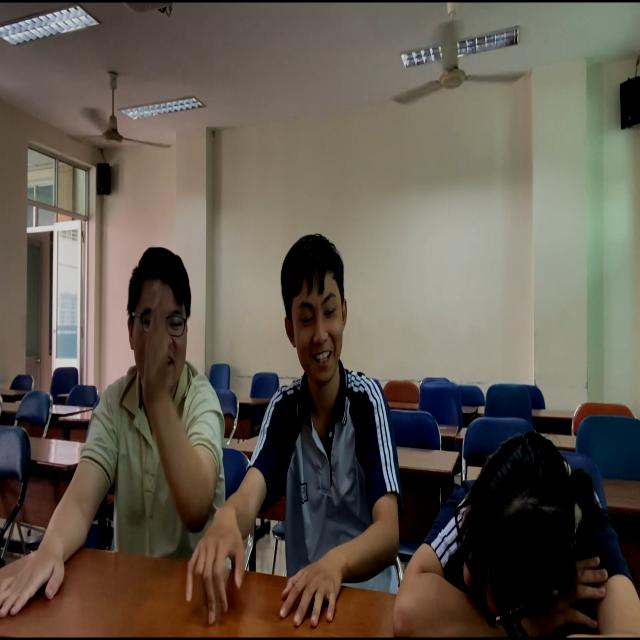sleep: (359, 411, 640, 640)
